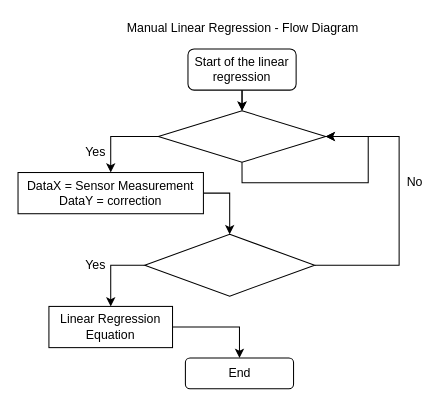
Some shapes in this 448 by 407 pixel diagram are drawn without their labels. The centre of each missing label's shape, as x and y in pixels:
"Are there more than 2 corrections?" belongs at (x=229, y=264).
"Data Correction?" belongs at (x=241, y=136).
